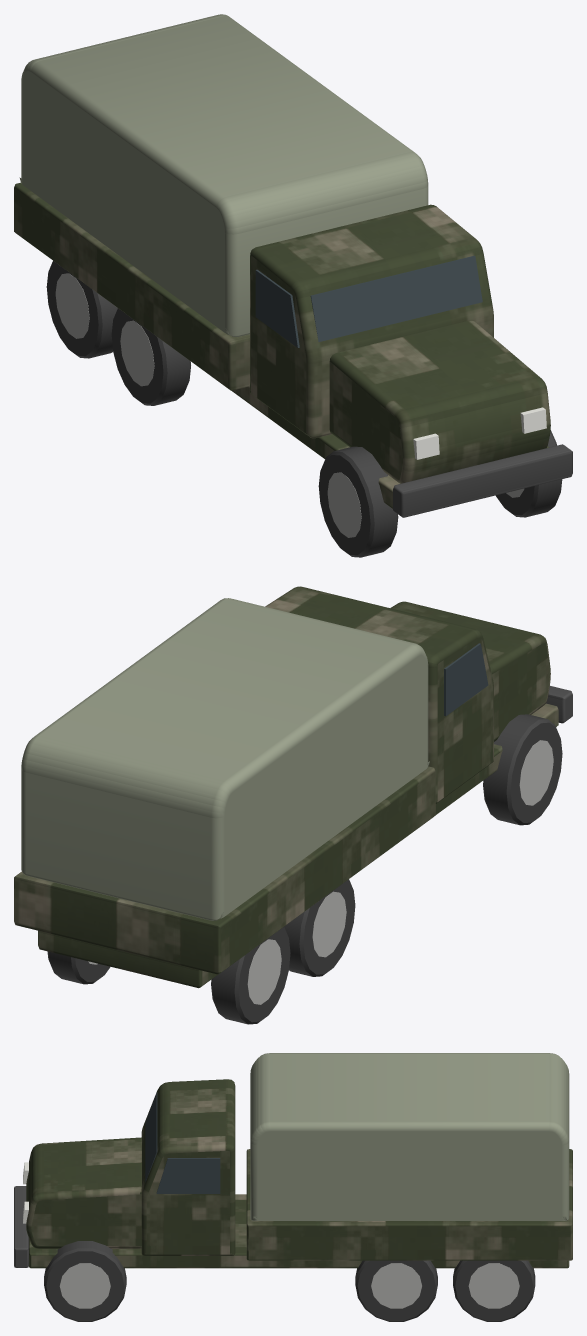
Rendered from truck_mil.glb.
3 views of the same model, one above another, from view 1: azimuth 30°, elevation 25°; view 2: azimuth 150°, elevation 25°; view 3: azimuth 270°, elevation 25° (orthographic). The views are drawn at different scales.
Visible parts, largest first — view 1: model; view 2: model; view 3: model.
Boxes of the visible parts, x1=… form: model: x1=14, y1=14, x2=572, y2=557; model: x1=14, y1=586, x2=572, y2=1024; model: x1=14, y1=1053, x2=572, y2=1321.
Size of the model in its own units: 2.4 by 2.94 by 7.45.
7 materials, 1 textured.
